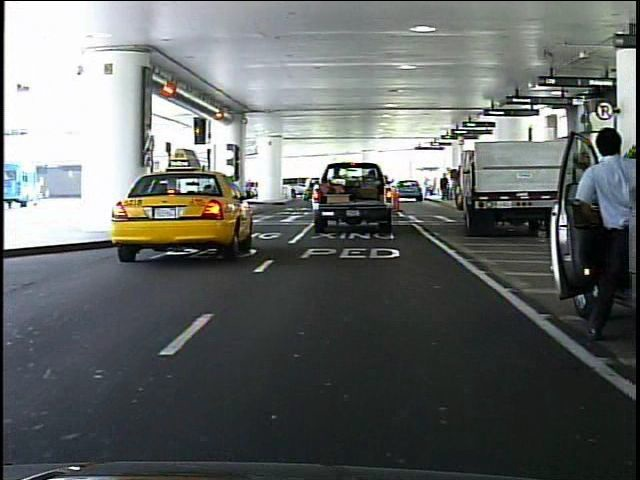person: (567, 120, 640, 340), (198, 167, 220, 213)
